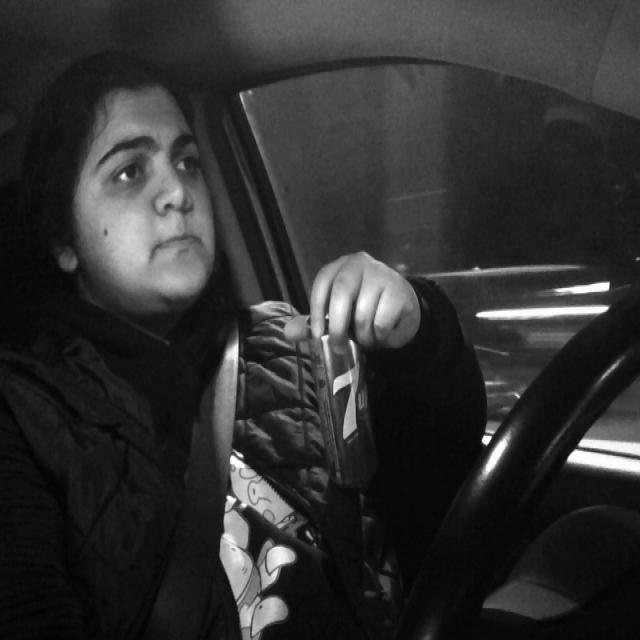Drinking: (308, 312, 381, 488)
